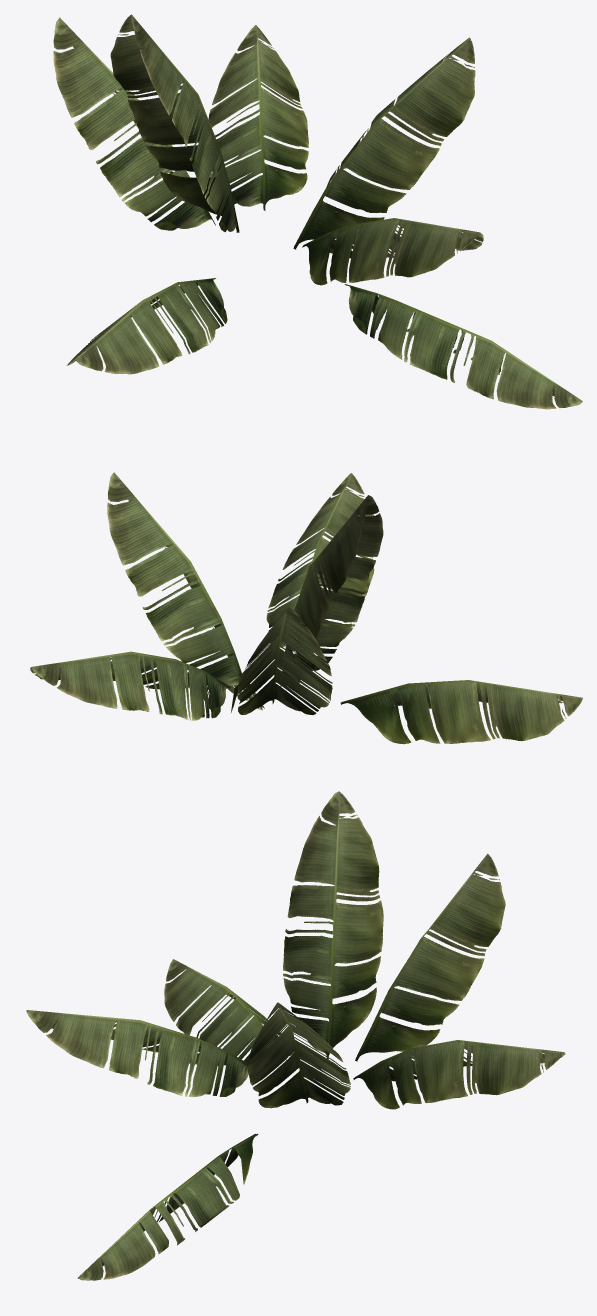
File: banana_leaves.obj
3 renders of one model, top to bottom at view 1: azimuth 30°, elevation 25°; view 2: azimuth 150°, elevation 25°; view 3: azimuth 270°, elevation 25°, orthographic. The views are drawn at different scales.
Parts seen in each view (by area): view 1: palm_tree; view 2: palm_tree; view 3: palm_tree.
Part boxes in pixels (x1=…): palm_tree: x1=53, y1=14, x2=582, y2=409; palm_tree: x1=30, y1=472, x2=582, y2=744; palm_tree: x1=26, y1=791, x2=565, y2=1280.
Size of the model in its own units: 9.6 by 7.61 by 10.47.
